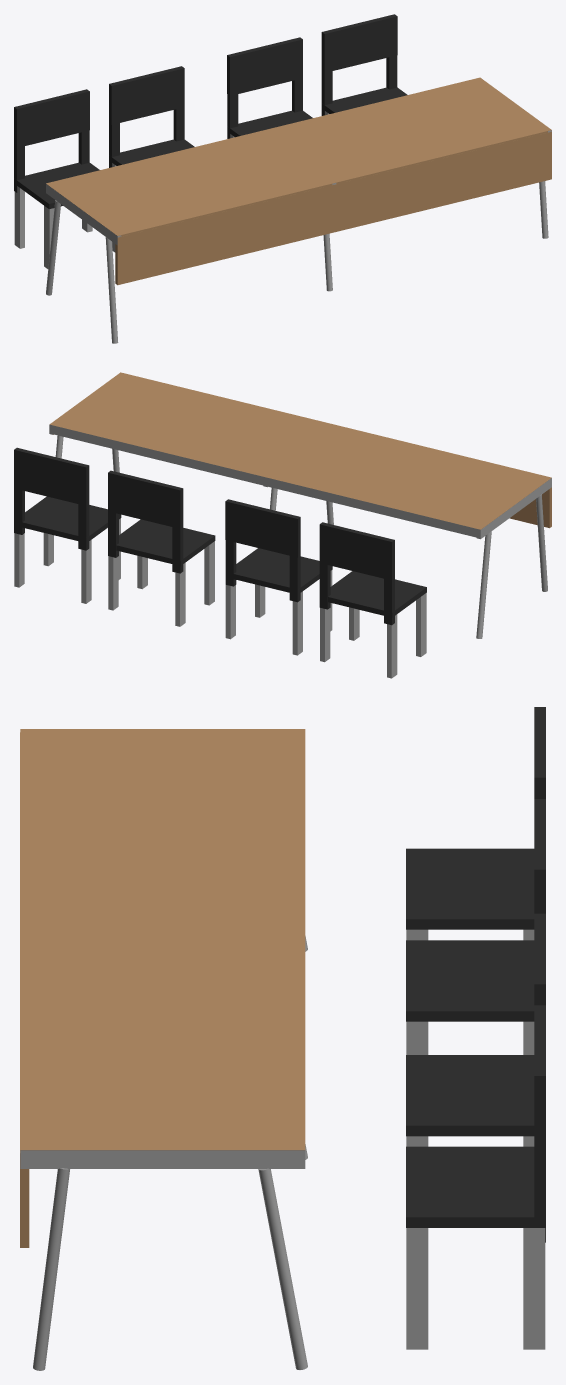
3 renders of one model, top to bottom at view 1: azimuth 30°, elevation 25°; view 2: azimuth 150°, elevation 25°; view 3: azimuth 270°, elevation 25°, orthographic. The views are drawn at different scales.
Visible parts, largest first — view 1: pCube13, polySurface11, polySurface7, polySurface9, polySurface10, pCube5, pCylinder6, pCylinder5; view 2: pCube13, polySurface11, polySurface9, polySurface10, polySurface7, pCube5, pCylinder5, pCylinder6; view 3: pCube13, polySurface7, polySurface10, polySurface11, polySurface9, pCube3, pCylinder2, pCylinder1.
Boxes of the visible parts, x1=… form: pCube13: x1=46, y1=77, x2=551, y2=285; polySurface11: x1=14, y1=89, x2=115, y2=268; polySurface7: x1=321, y1=14, x2=407, y2=115; polySurface9: x1=227, y1=37, x2=312, y2=138; polySurface10: x1=109, y1=66, x2=194, y2=167; pCube5: x1=46, y1=184, x2=121, y2=245; pCylinder6: x1=105, y1=237, x2=118, y2=343; pCylinder5: x1=46, y1=200, x2=60, y2=295; pCube13: x1=49, y1=372, x2=551, y2=537; polySurface11: x1=319, y1=522, x2=426, y2=678; polySurface9: x1=108, y1=470, x2=215, y2=626; polySurface10: x1=225, y1=499, x2=332, y2=655; polySurface7: x1=14, y1=447, x2=121, y2=603; pCube5: x1=476, y1=478, x2=551, y2=539; pCylinder5: x1=476, y1=531, x2=491, y2=638; pCylinder6: x1=536, y1=494, x2=547, y2=591; pCube13: x1=20, y1=729, x2=305, y2=1247; polySurface7: x1=406, y1=1005, x2=545, y2=1349; polySurface10: x1=406, y1=799, x2=545, y2=1054; polySurface11: x1=406, y1=707, x2=545, y2=940; polySurface9: x1=406, y1=913, x2=545, y2=1146; pCube3: x1=20, y1=1150, x2=305, y2=1168; pCylinder2: x1=258, y1=1168, x2=307, y2=1369; pCylinder1: x1=33, y1=1168, x2=69, y2=1370.
Size of the model in its own units: 3.1 by 0.9364 by 1.63.
